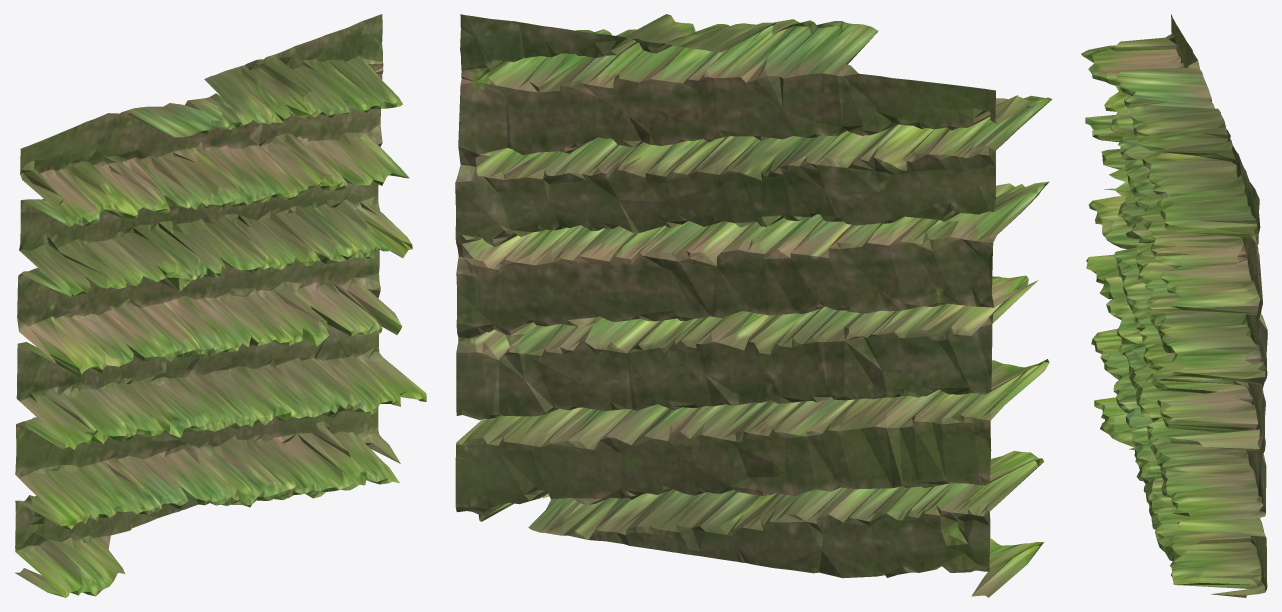
Rendered from map_110_0.obj.
3 views of the same model, side by side, from view 1: azimuth 30°, elevation 25°; view 2: azimuth 150°, elevation 25°; view 3: azimuth 270°, elevation 25° (orthographic). The views are drawn at different scales.
Parts seen in each view (by area): view 1: grp1; view 2: grp1; view 3: grp1.
Part boxes in pixels (x1,y1,x2,y2): grp1: (15,14,426,597); grp1: (455,14,1052,597); grp1: (1081,14,1267,597).
Size of the model in its own units: 10 by 10 by 4.25.
Materials: 1 (1 with a texture image).
